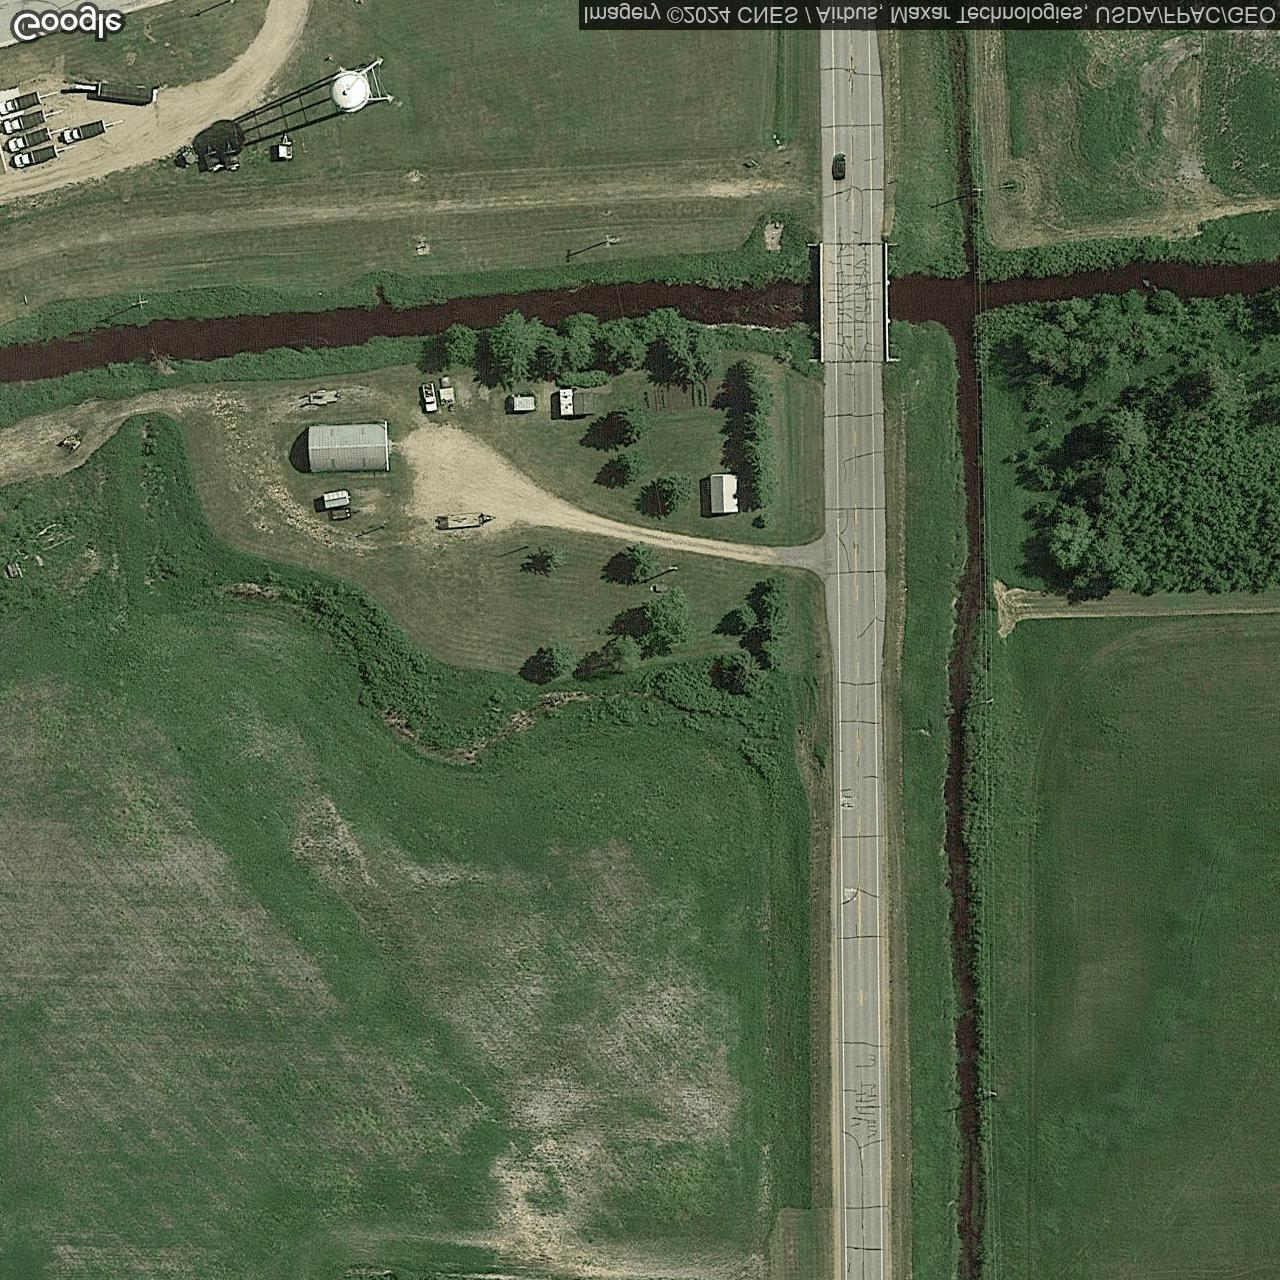Garage: (308, 420, 390, 474), (712, 474, 738, 512)
